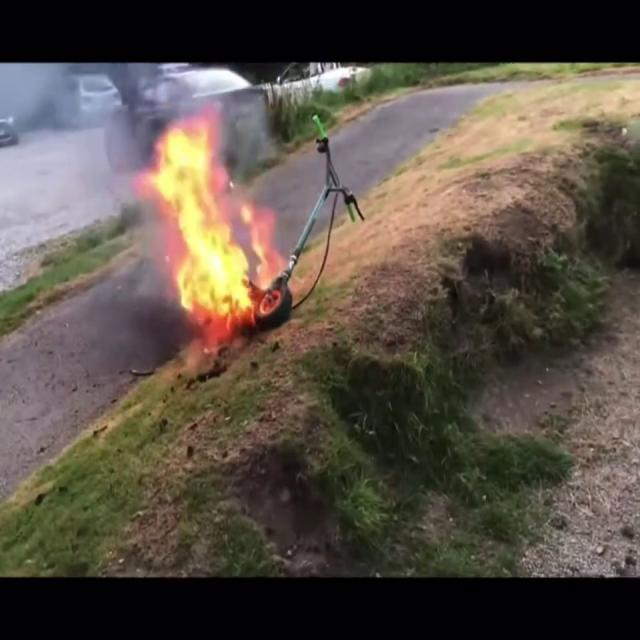Fire: (143, 114, 280, 325)
